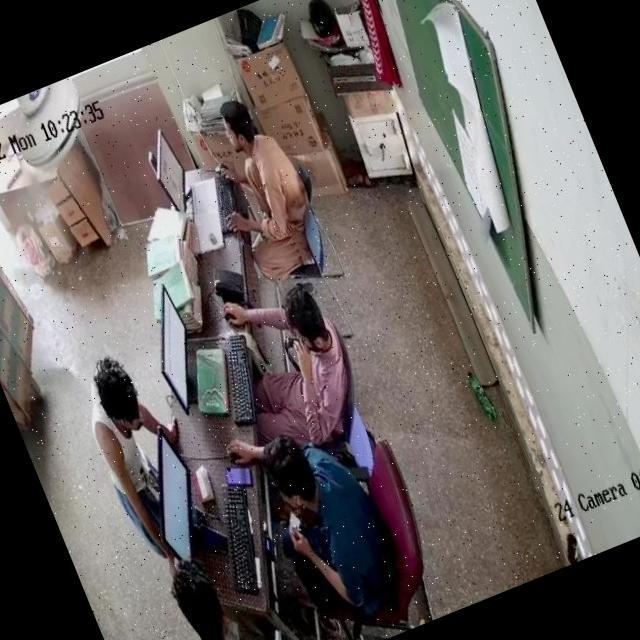person: (251, 406, 412, 629), (63, 346, 194, 558), (226, 280, 365, 448), (215, 98, 312, 262), (153, 560, 266, 640)
